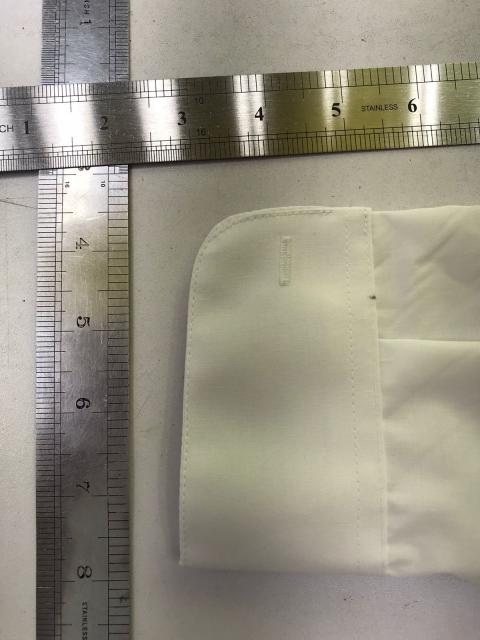Dirty_mark: (369, 290, 380, 306)
